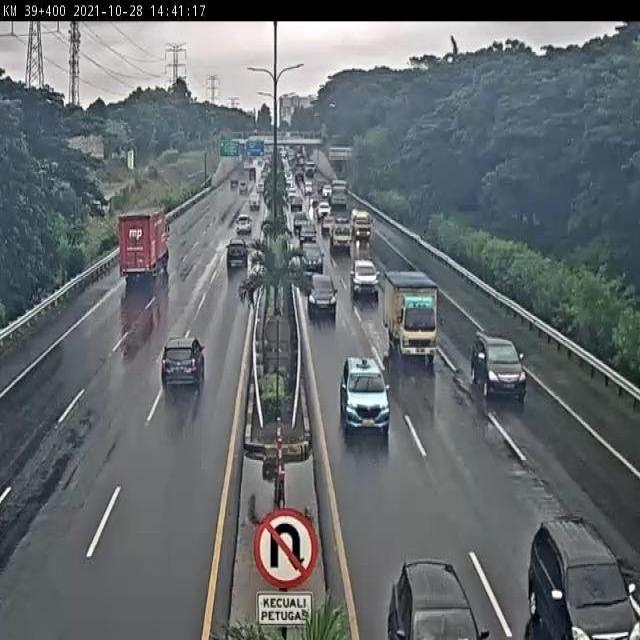car: (305, 272, 339, 320), (348, 258, 379, 302), (225, 236, 250, 267)
mid truck: (338, 353, 392, 436), (469, 328, 528, 401), (117, 208, 169, 283), (160, 335, 207, 392)
truck-m-: (384, 270, 441, 366)
